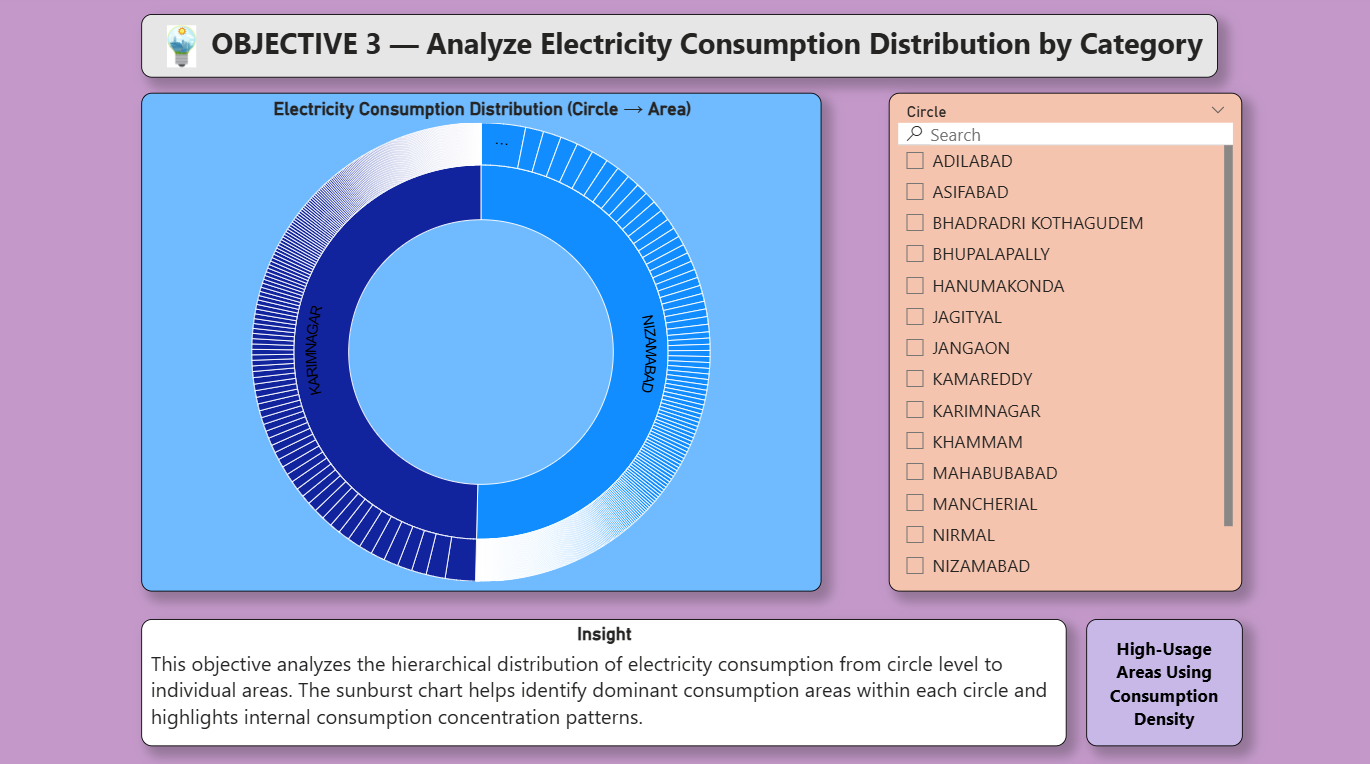

What the dashboard file says about the page in this screenshot:
{"tool":"powerbi","page":{"name":"Consumption Hierarchy","canvas":[1280,720],"ordinal":4},"visuals":[{"type":"textbox","box":[131.4,18.6,1001.4,59],"z":0},{"type":"Sunburst1445472000808","title":"Electricity Consumption Distribution (Circle → Area)","fields":{"Nodes":["TG-NPDCL_consumption_detail_commercial_OCTOBER-2025.Circle","TG-NPDCL_consumption_detail_commercial_OCTOBER-2025.Area"],"Values":["TG-NPDCL_consumption_detail_commercial_OCTOBER-2025.Total Units"]},"box":[131.4,91.9,632.6,464],"z":1000},{"type":"slicer","fields":{"Values":["TG-NPDCL_consumption_detail_commercial_OCTOBER-2025.Circle"]},"box":[826.7,91.9,329.1,464],"z":2000},{"type":"textbox","title":"Insight","box":[131.4,581.4,860.5,118.6],"z":3000},{"type":"actionButton","box":[1010.5,581.4,145.3,118.6],"z":4000},{"type":"image","box":[146.2,28.6,45.2,39],"z":5000}]}

Visuals, with their boxes in screenshot pixels (x1, y1, x2, y2), scaled from the page's 1280x720 canvas onto the 1370x764 screenshot:
textbox: l=141, t=20, r=1212, b=82
"Electricity Consumption Distribution (Circle → Area)" Sunburst1445472000808: l=141, t=98, r=818, b=590
slicer - TG-NPDCL_consumption_detail_commercial_OCTOBER-2025.Circle: l=885, t=98, r=1237, b=590
"Insight" textbox: l=141, t=617, r=1062, b=743
actionButton: l=1082, t=617, r=1237, b=743
image: l=156, t=30, r=205, b=72
